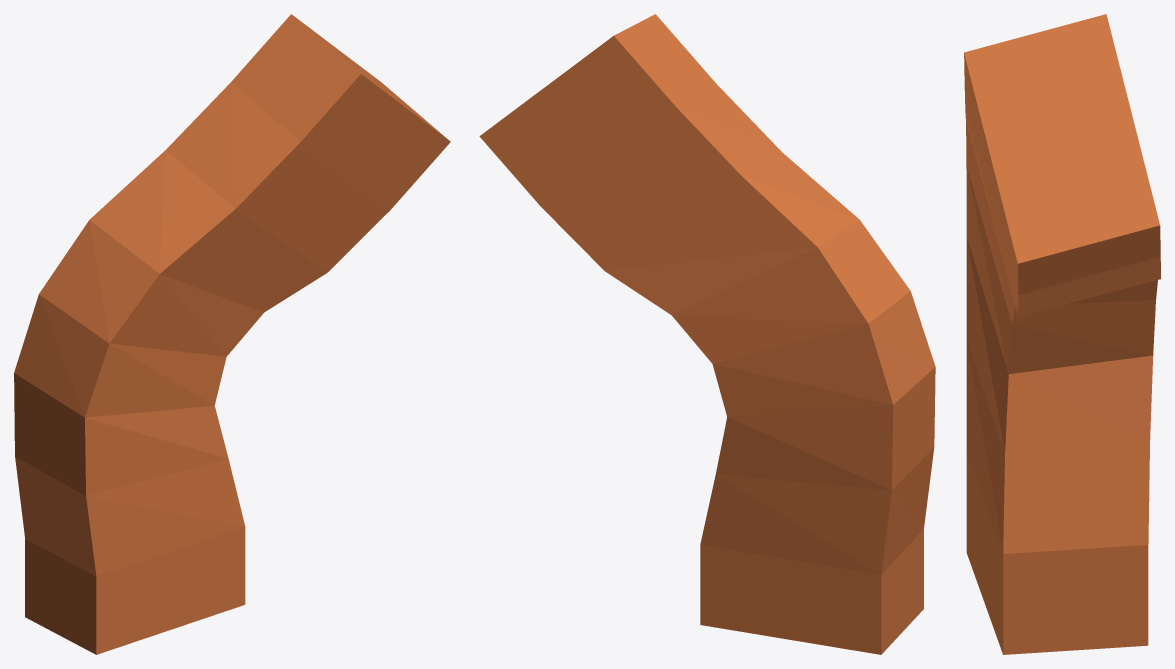
The model's file is skin-pose.glb.
3 renders of one model, left to right at view 1: azimuth 30°, elevation 25°; view 2: azimuth 150°, elevation 25°; view 3: azimuth 270°, elevation 25°, orthographic. The views are drawn at different scales.
Visible parts, largest first — view 1: Flexible column · 当前姿态; view 2: Flexible column · 当前姿态; view 3: Flexible column · 当前姿态.
Part boxes in pixels (x1,y1,x2,y2): Flexible column · 当前姿态: (14, 14, 450, 654); Flexible column · 当前姿态: (479, 14, 935, 654); Flexible column · 当前姿态: (964, 14, 1160, 654).
Bounding box in the file's own units: 1.6 × 2.07 × 0.5305.
